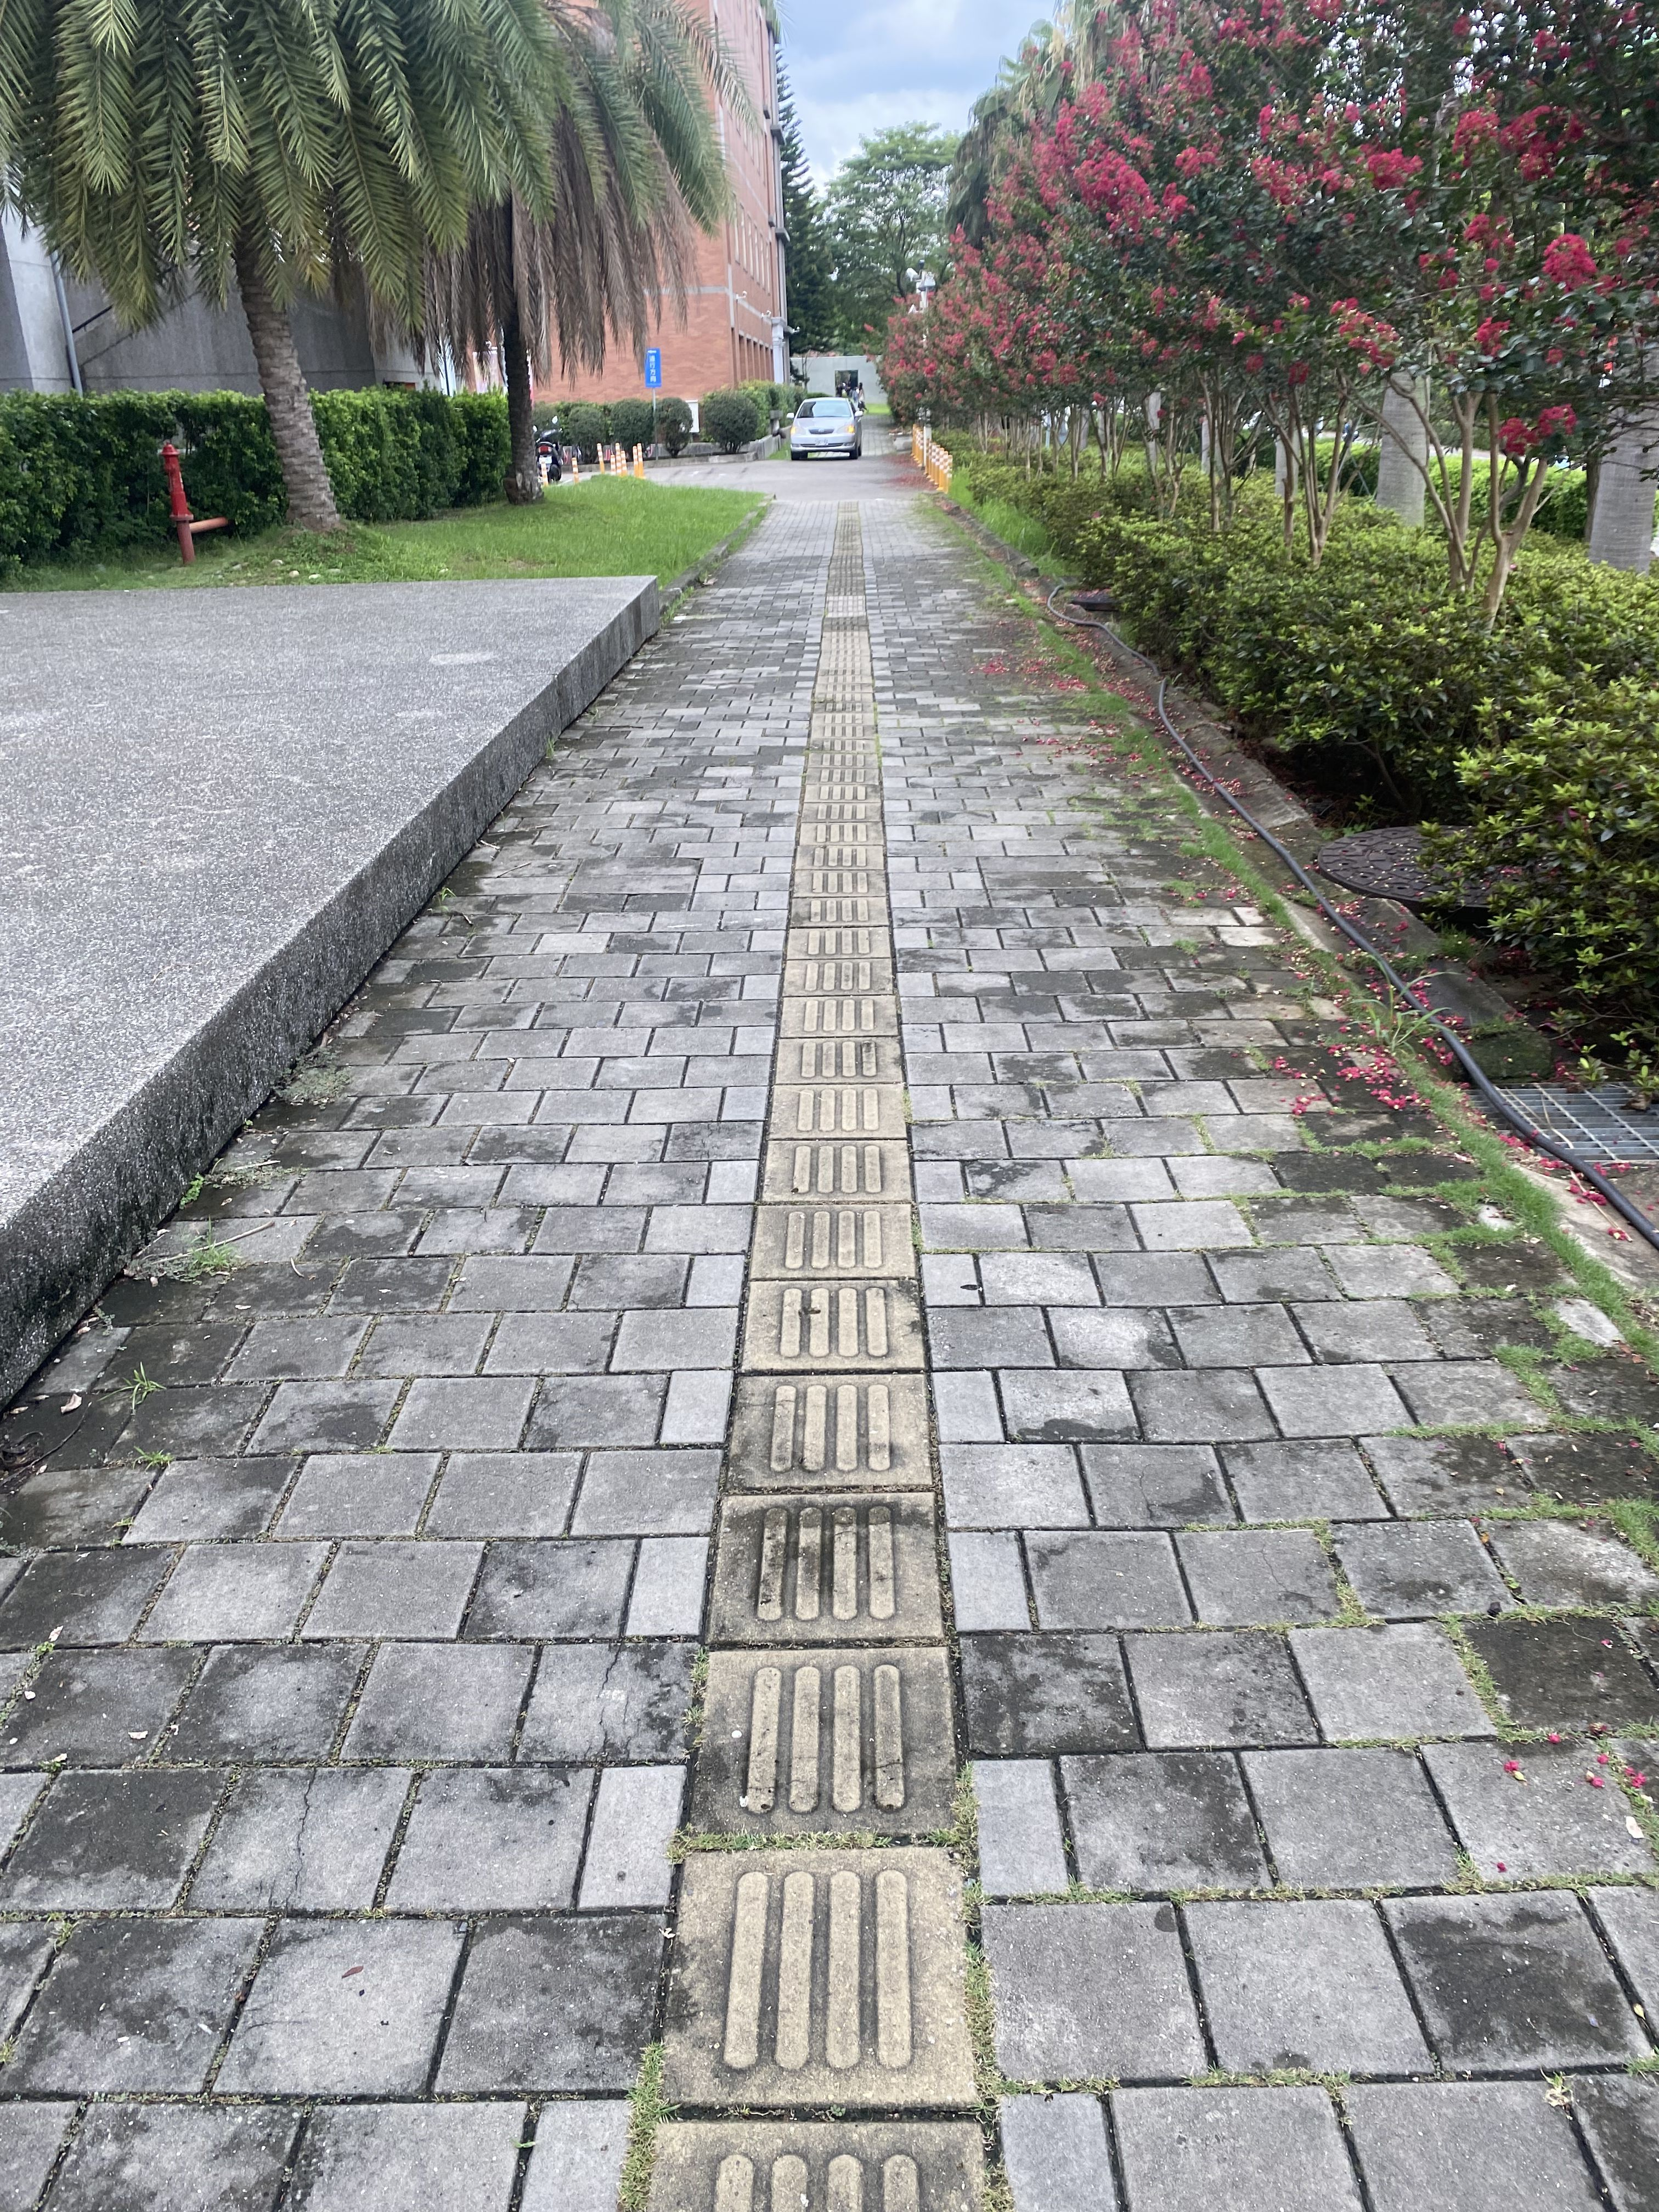0: (0, 740, 1659, 2212)
sidewalk: (582, 482, 1255, 1522)
